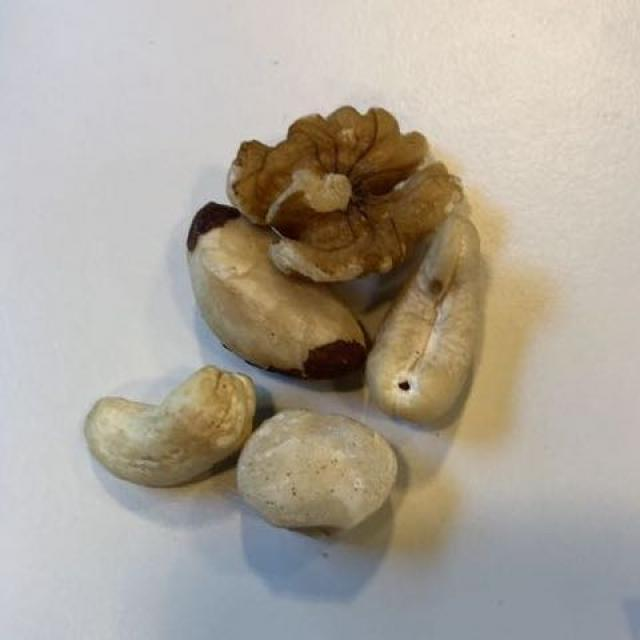cashew-nut: (74, 358, 260, 502)
mixed-nuts: (82, 99, 524, 565)
walnut: (218, 99, 480, 291)
